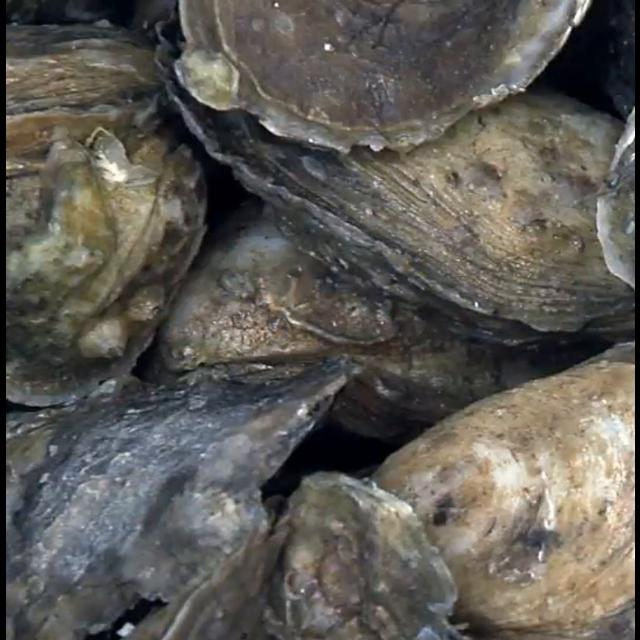Oyster-Closed: (159, 11, 633, 343), (371, 341, 634, 640)
Oyster-Indeterminate: (140, 197, 608, 440), (5, 358, 354, 640), (130, 472, 469, 640), (5, 131, 205, 408), (5, 23, 180, 158)
